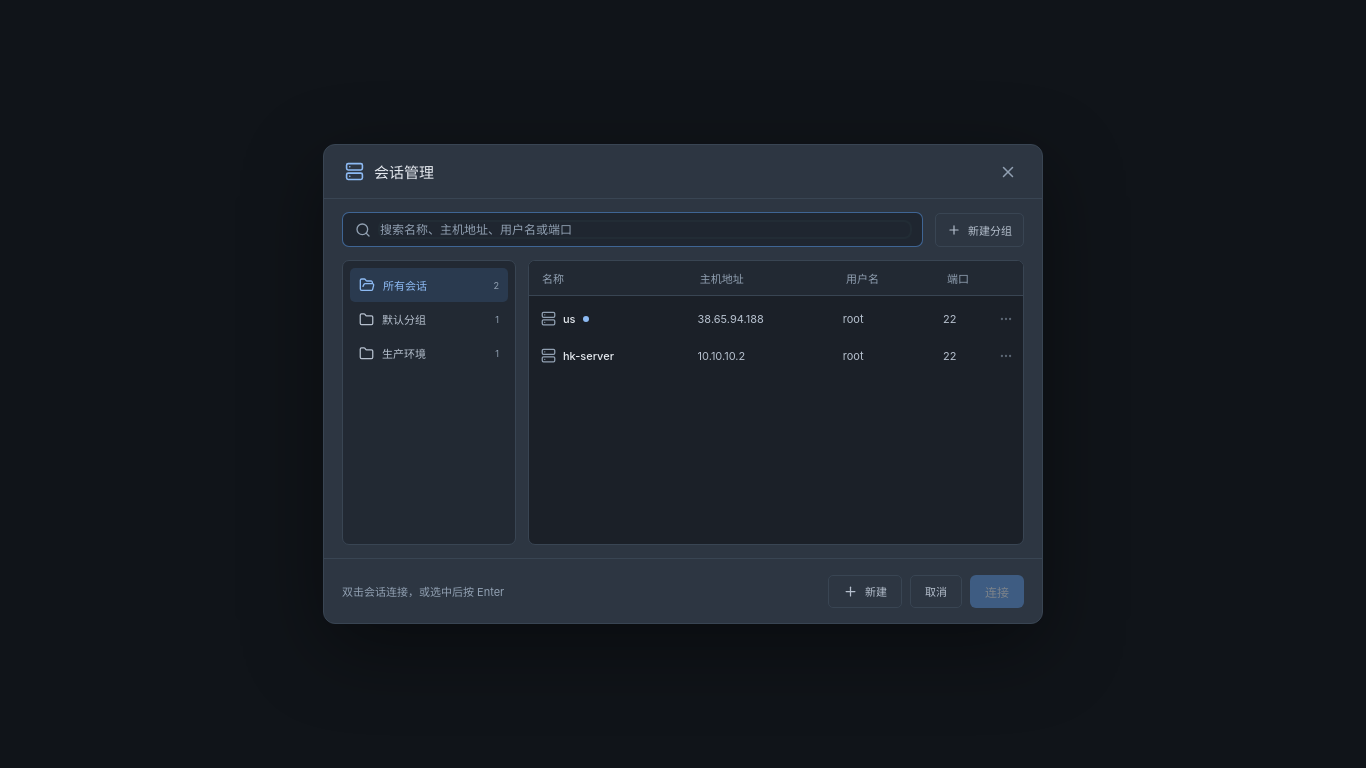
Test case: clicking empty dialog space dismisses the context menu, not the picker
Right-click the button with aria-label "选择会话 us": [763, 318] box x1=533 y1=300 x2=993 y2=337
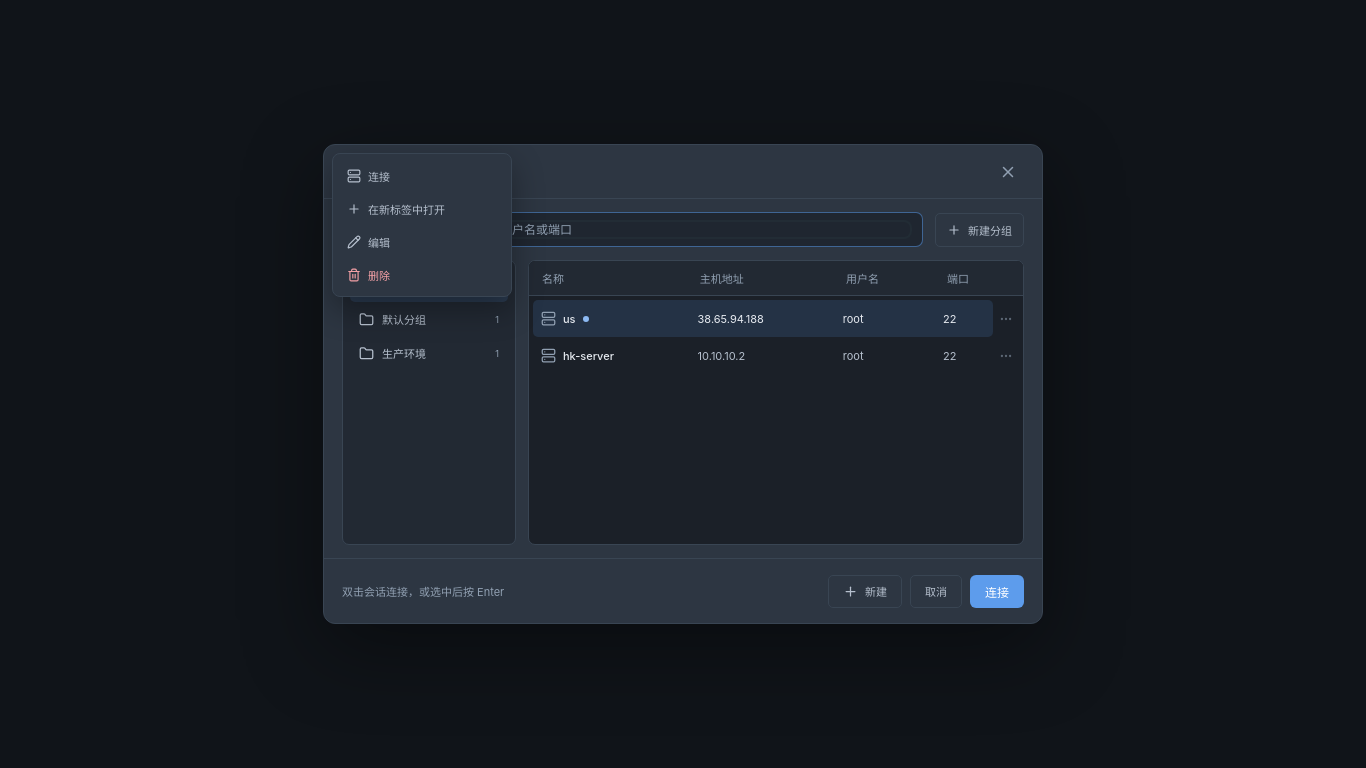
Check: the menu is shown, box x1=332 y1=153 x2=512 y2=297
Click the dialog: [683, 384] box x1=323 y1=144 x2=1043 y2=624
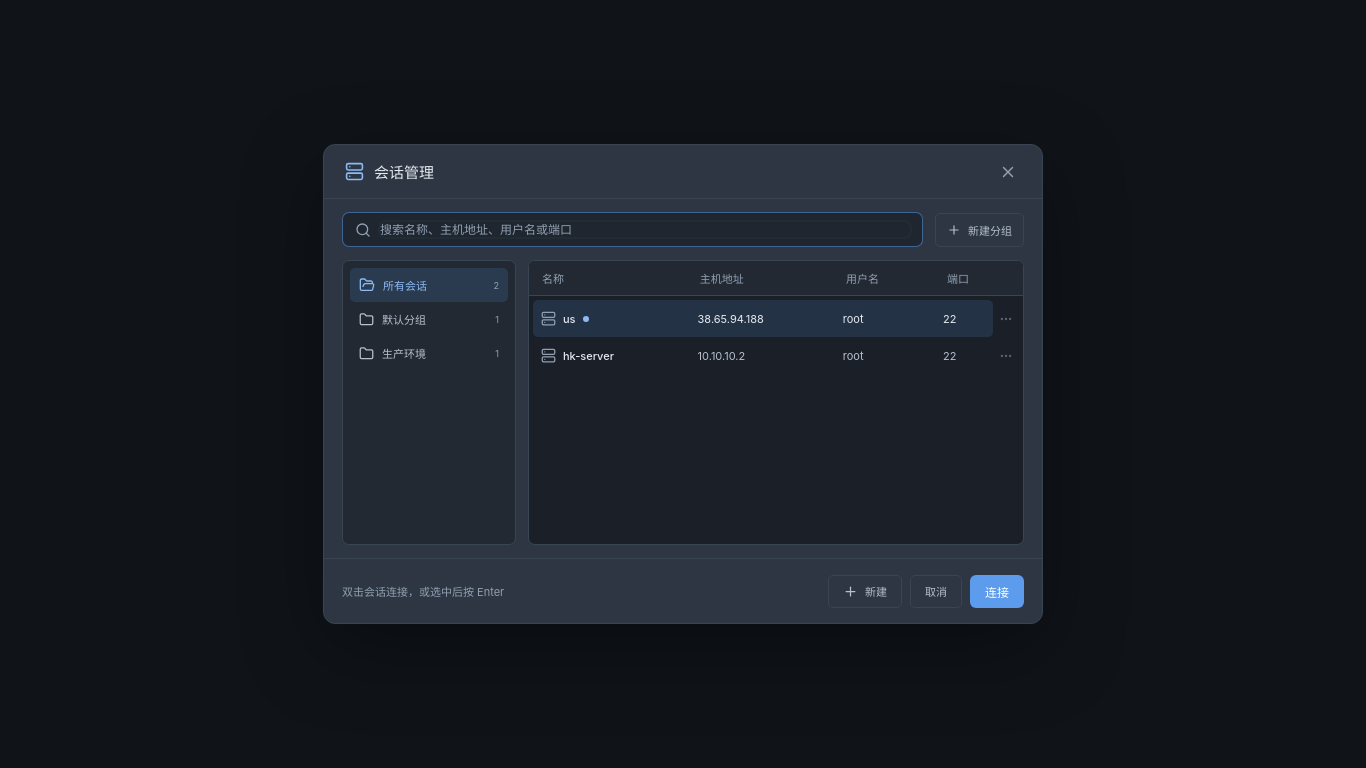
Check: the menu is gone
